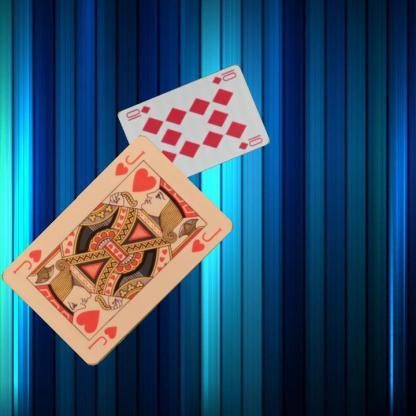10d: (209, 66, 238, 86)
Jh: (112, 148, 147, 178), (84, 323, 118, 352)
